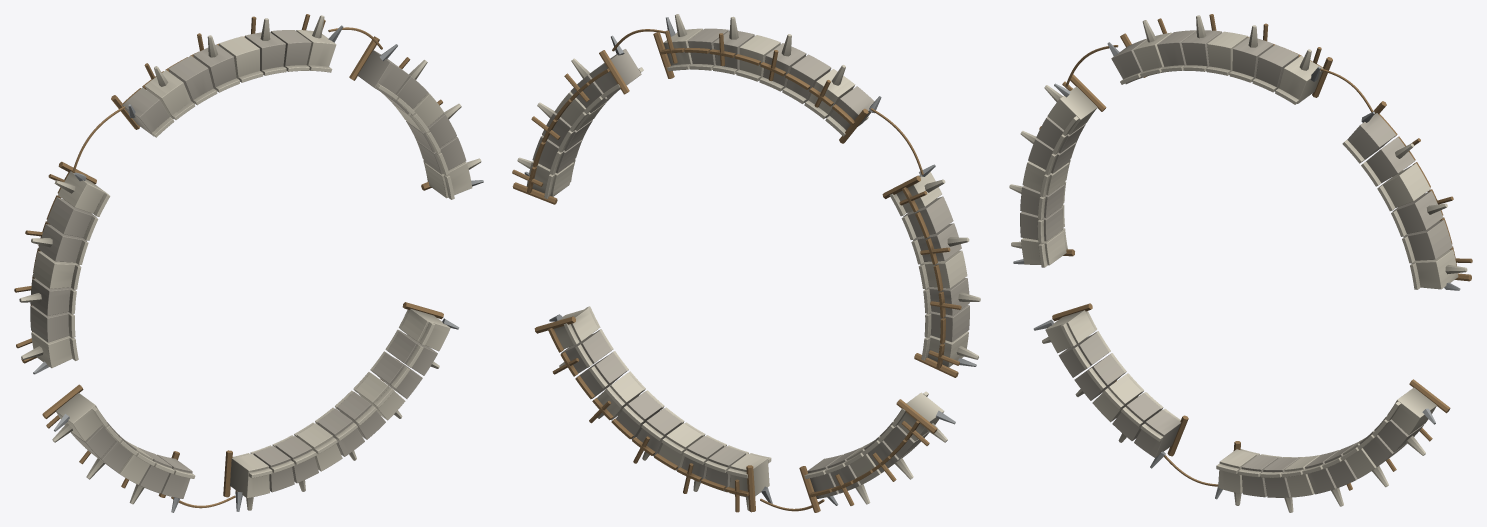
Rendered from broken-halo.glb.
The picture shows the model from 3 angles, left to right: view 1: azimuth 30°, elevation 25°; view 2: azimuth 150°, elevation 25°; view 3: azimuth 330°, elevation 25°; orthographic projection.
Visible parts, largest first — view 1: broken-halo__pale, broken-halo__limestone, broken-halo__bronze, broken-halo__rock; view 2: broken-halo__pale, broken-halo__limestone, broken-halo__bronze, broken-halo__rock; view 3: broken-halo__pale, broken-halo__limestone, broken-halo__bronze, broken-halo__rock.
Part boxes in pixels (x1=…): broken-halo__pale: x1=19, y1=15, x2=481, y2=510; broken-halo__limestone: x1=30, y1=30, x2=466, y2=498; broken-halo__bronze: x1=14, y1=14, x2=443, y2=508; broken-halo__rock: x1=33, y1=25, x2=483, y2=512; broken-halo__pale: x1=517, y1=14, x2=980, y2=510; broken-halo__limestone: x1=532, y1=28, x2=969, y2=498; broken-halo__bronze: x1=512, y1=29, x2=961, y2=512; broken-halo__rock: x1=524, y1=17, x2=976, y2=505; broken-halo__pale: x1=1009, y1=15, x2=1467, y2=512; broken-halo__limestone: x1=1020, y1=30, x2=1452, y2=497; broken-halo__bronze: x1=1039, y1=14, x2=1472, y2=490; broken-halo__rock: x1=1013, y1=42, x2=1460, y2=499.
Bounding box in the file's own units: 263 × 266 × 24.8.
